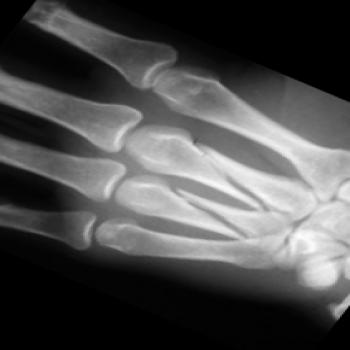Fracture: (181, 145, 283, 200), (159, 191, 252, 241)
